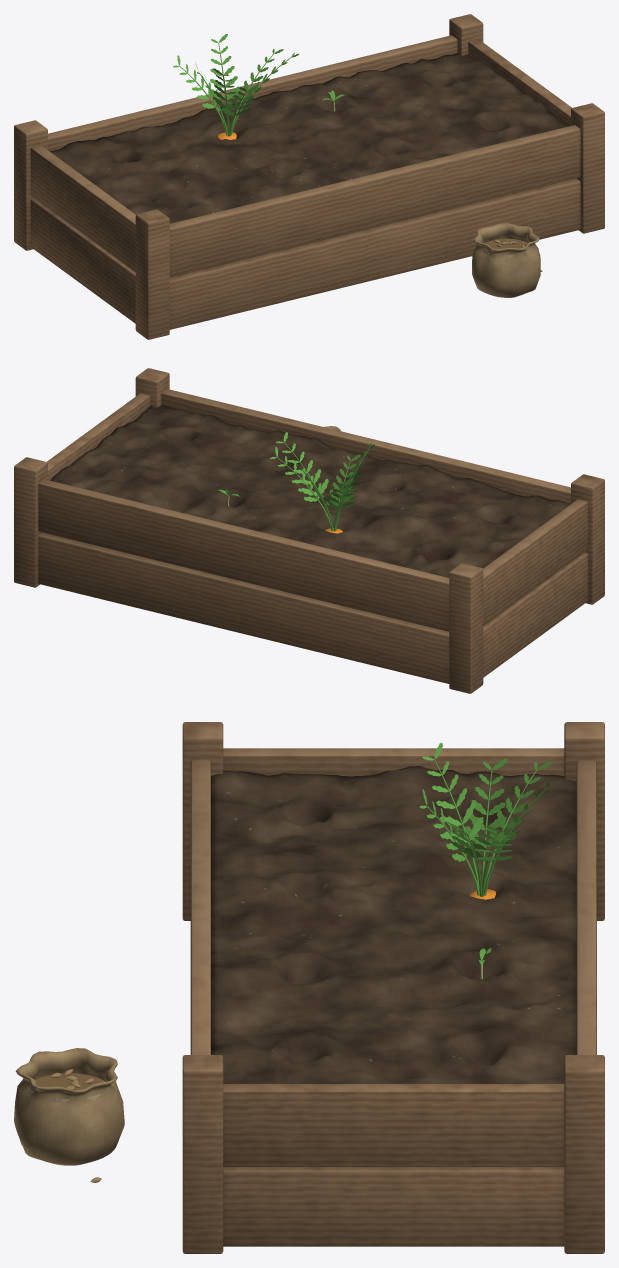
The model's file is CarrotBed.glb.
3 views of the same model, one above another, from view 1: azimuth 30°, elevation 25°; view 2: azimuth 150°, elevation 25°; view 3: azimuth 270°, elevation 25° (orthographic). The views are drawn at different scales.
Visible parts, largest first — view 1: Bed_Frame, Bed_Soil, SeedPouch, Carrot; view 2: Bed_Frame, Bed_Soil, Carrot; view 3: Bed_Soil, Bed_Frame, SeedPouch, Carrot.
Boxes of the visible parts, bbox=[...] form: Bed_Frame: bbox=[14, 14, 604, 339]; Bed_Soil: bbox=[50, 53, 568, 223]; SeedPouch: bbox=[472, 222, 540, 297]; Carrot: bbox=[173, 34, 298, 139]; Bed_Frame: bbox=[14, 368, 604, 693]; Bed_Soil: bbox=[50, 405, 570, 577]; Carrot: bbox=[270, 432, 374, 533]; Bed_Soil: bbox=[211, 766, 576, 1083]; Bed_Frame: bbox=[182, 722, 604, 1253]; SeedPouch: bbox=[14, 1048, 124, 1165]; Carrot: bbox=[419, 743, 551, 899].
Size of the model in its own units: 1.22 by 0.4533 by 0.8733.
Materials: 9 (3 with a texture image).
